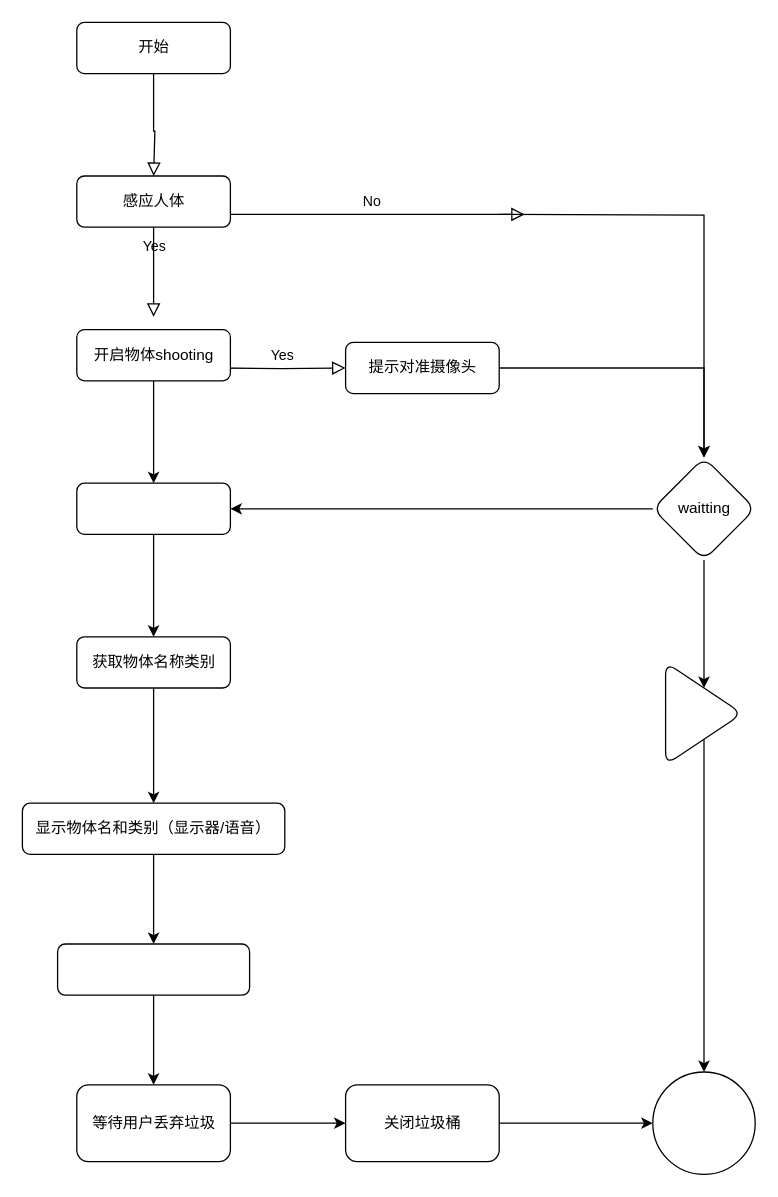
The diagram is 778 pixels wide and 1197 high, and some of its shapes have lost their labels. The centre of each missing label's shape, as x and y in pixels:
关闭: (703,713)
完成: (703,1122)
打开对应类别的口: (153,969)
裁剪物体图像: (153,508)
